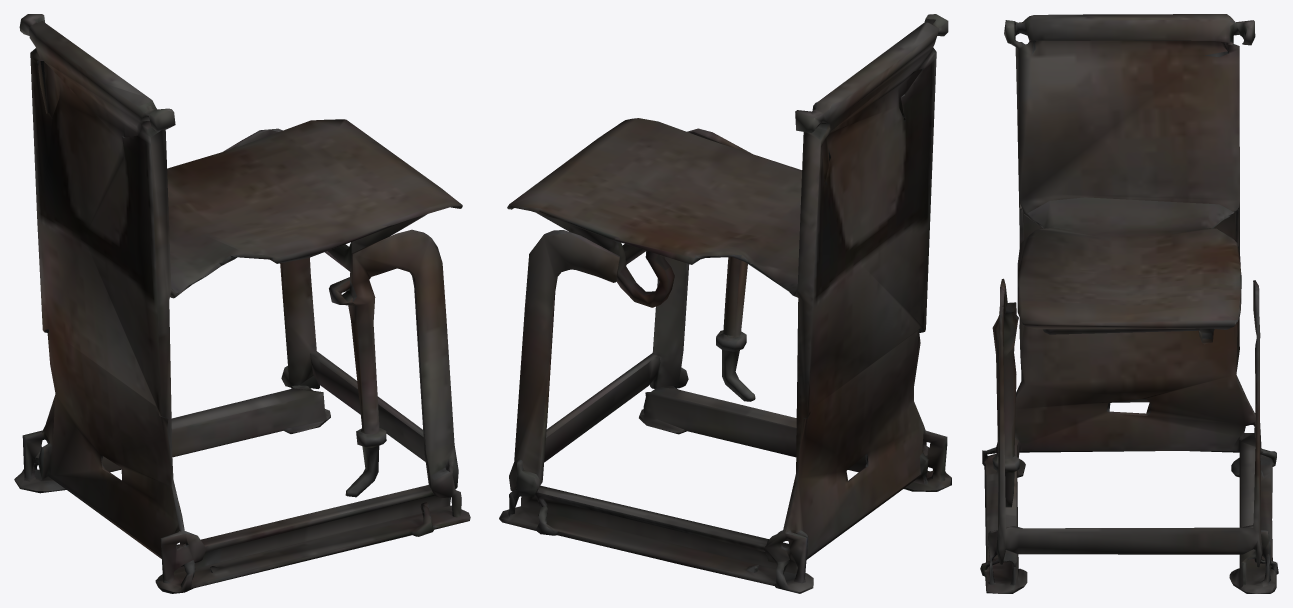
File: worn-iron-examination-chair-v003.glb
The picture shows the model from 3 angles, left to right: view 1: azimuth 30°, elevation 25°; view 2: azimuth 150°, elevation 25°; view 3: azimuth 270°, elevation 25°; orthographic projection. The views are drawn at different scales.
Parts seen in each view (by area): view 1: worn-iron-examination-chair; view 2: worn-iron-examination-chair; view 3: worn-iron-examination-chair.
Part boxes in pixels (x1,y1,x2,y2): worn-iron-examination-chair: (14, 14, 470, 593); worn-iron-examination-chair: (499, 14, 951, 593); worn-iron-examination-chair: (980, 14, 1278, 593).
Size of the model in its own units: 0.8728 by 1.23 by 0.7478.
Materials: 1 (1 with a texture image).
